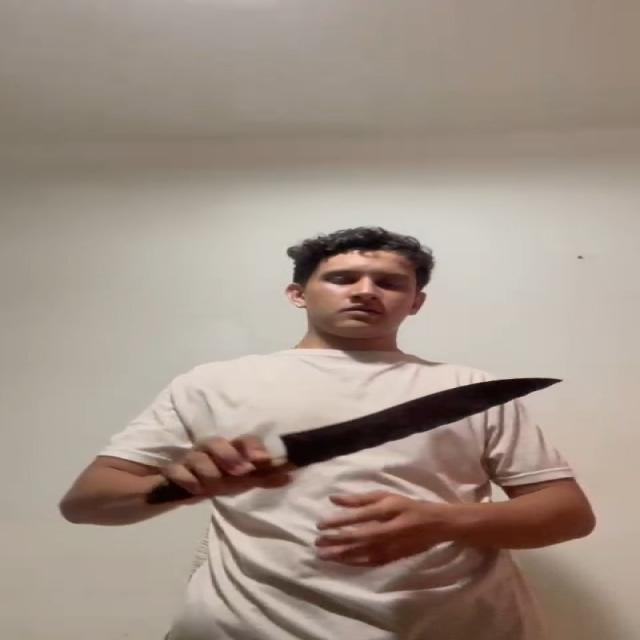knife: (277, 377, 563, 467)
